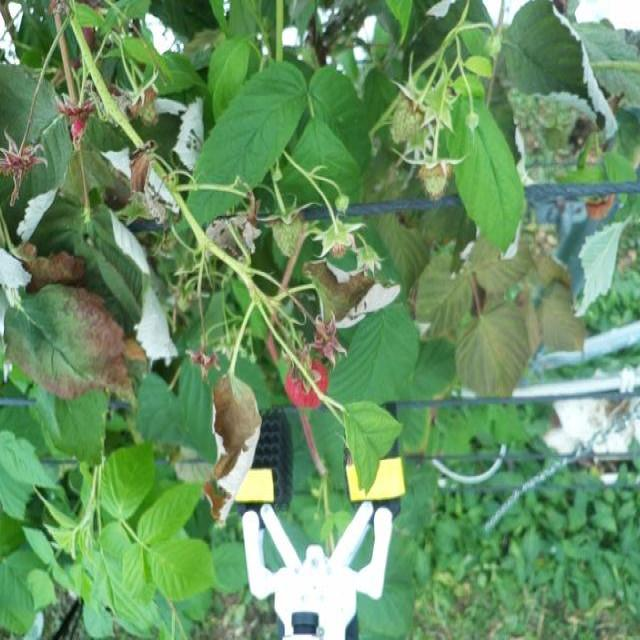Riped berries: (282, 349, 330, 411)
